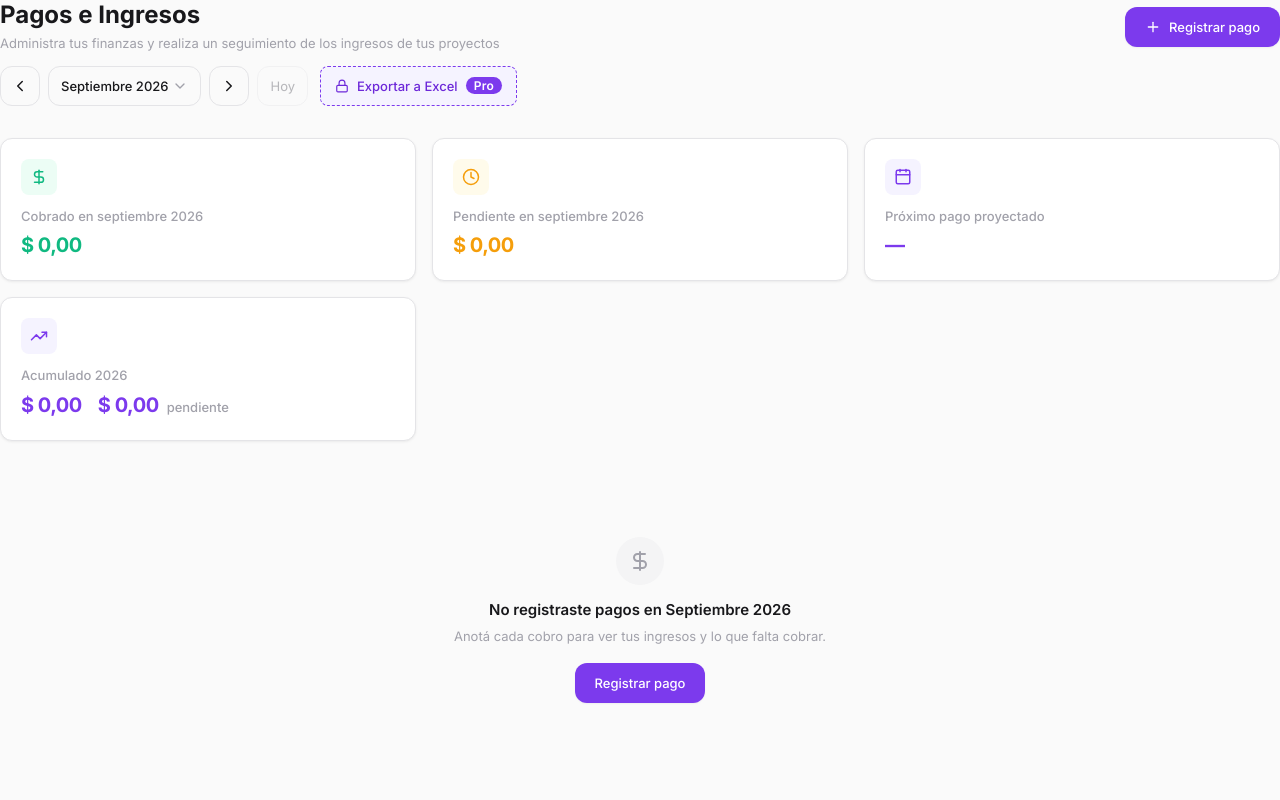
Test: PaymentsPage — empty state › shows the EmptyState explanation (with the selected month name) when there are no payments, and its CTA opens the create modal
Check: the text "Anotá cada cobro para ver tus ingresos y lo que falta cobrar." is shown, box [454, 627, 826, 647]
Click the button "Registrar pago" below "No registraste pagos en Septiembre 2026" at (640, 683), box [574, 663, 705, 703]
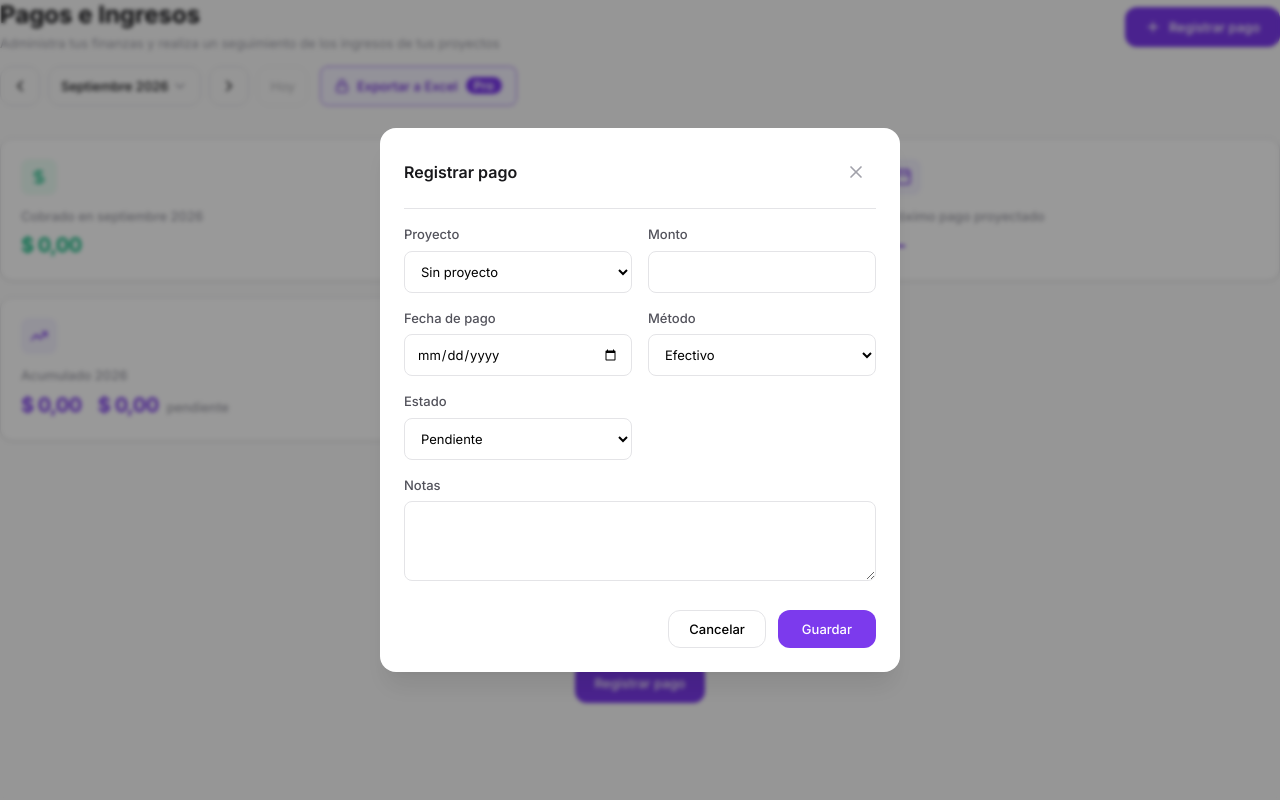
Check: the heading "Registrar pago" is shown, box [404, 162, 517, 182]
